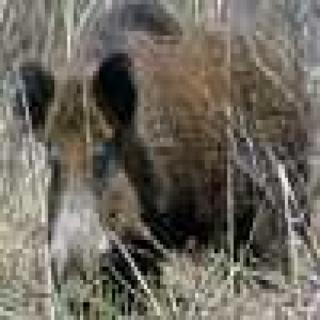Pig: (8, 0, 320, 276)
